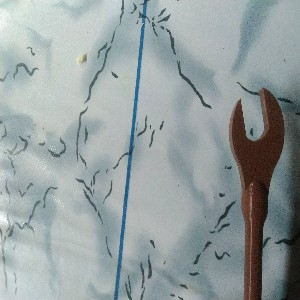spanner: (228, 88, 285, 300)
